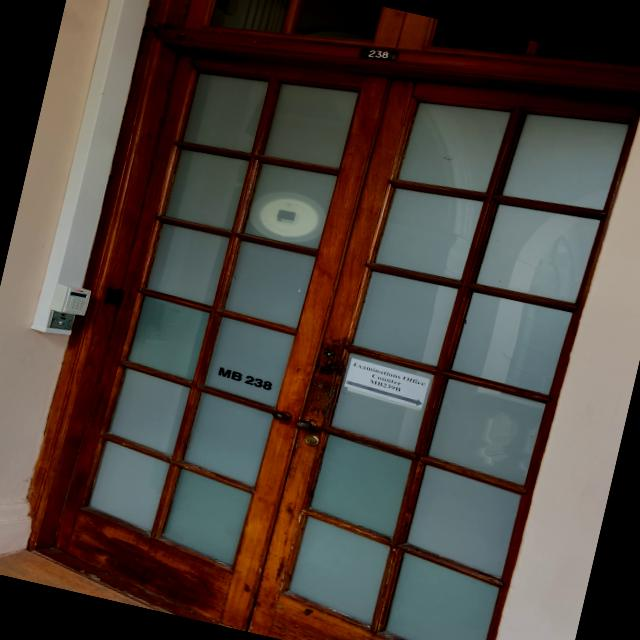room238: (358, 42, 398, 64)
